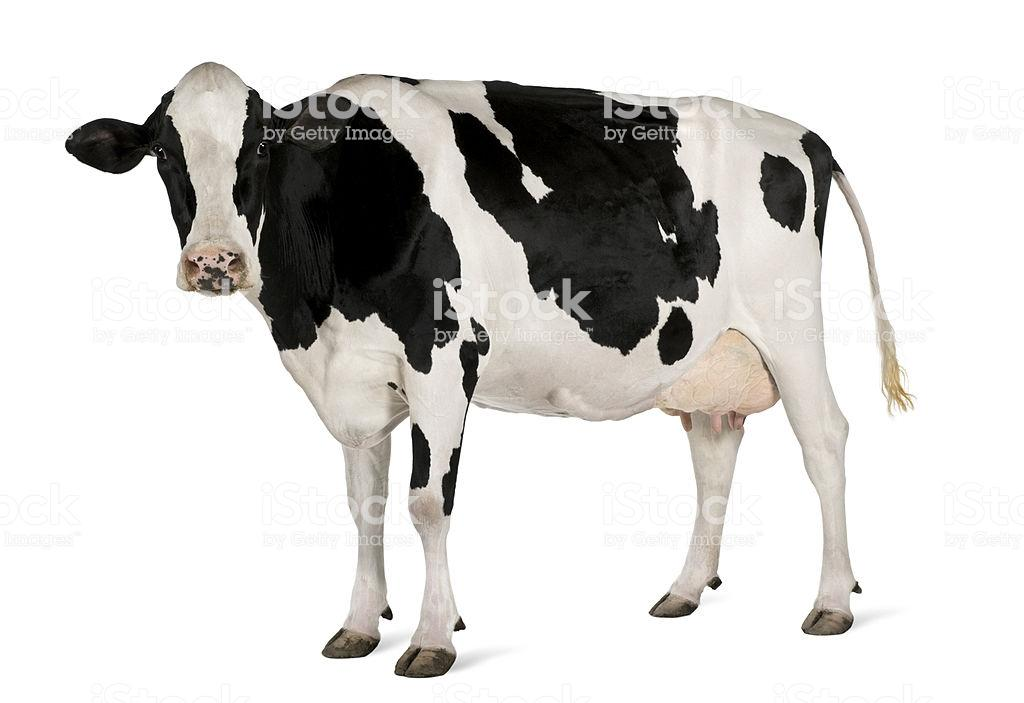cow: (66, 62, 910, 677)
